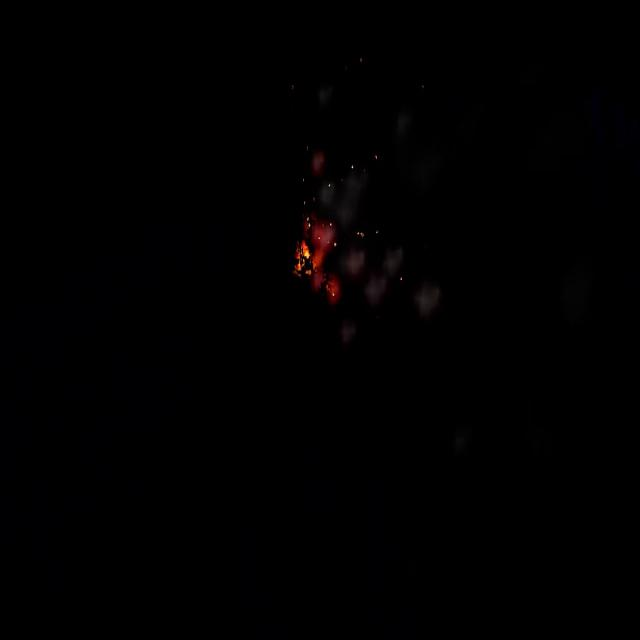fire: (295, 241, 314, 278)
smoke: (306, 151, 448, 318)
